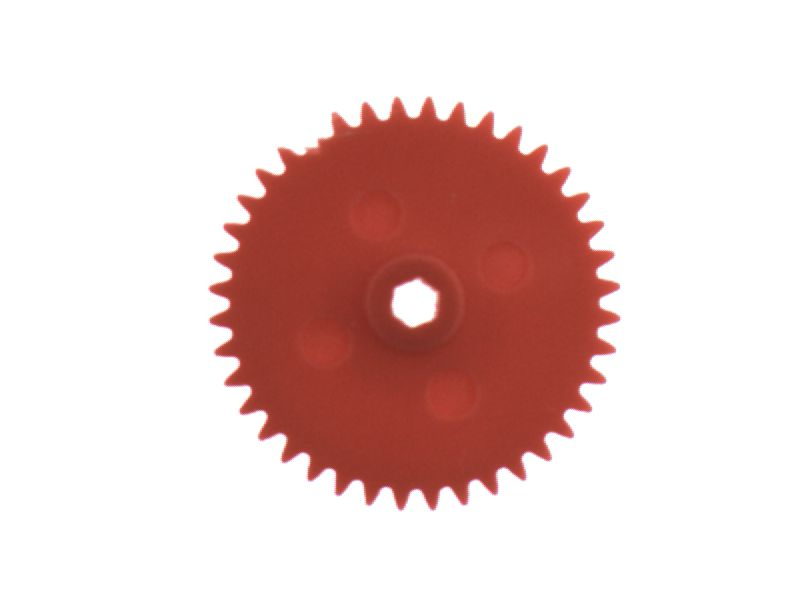defect_lack: (287, 116, 346, 166)
